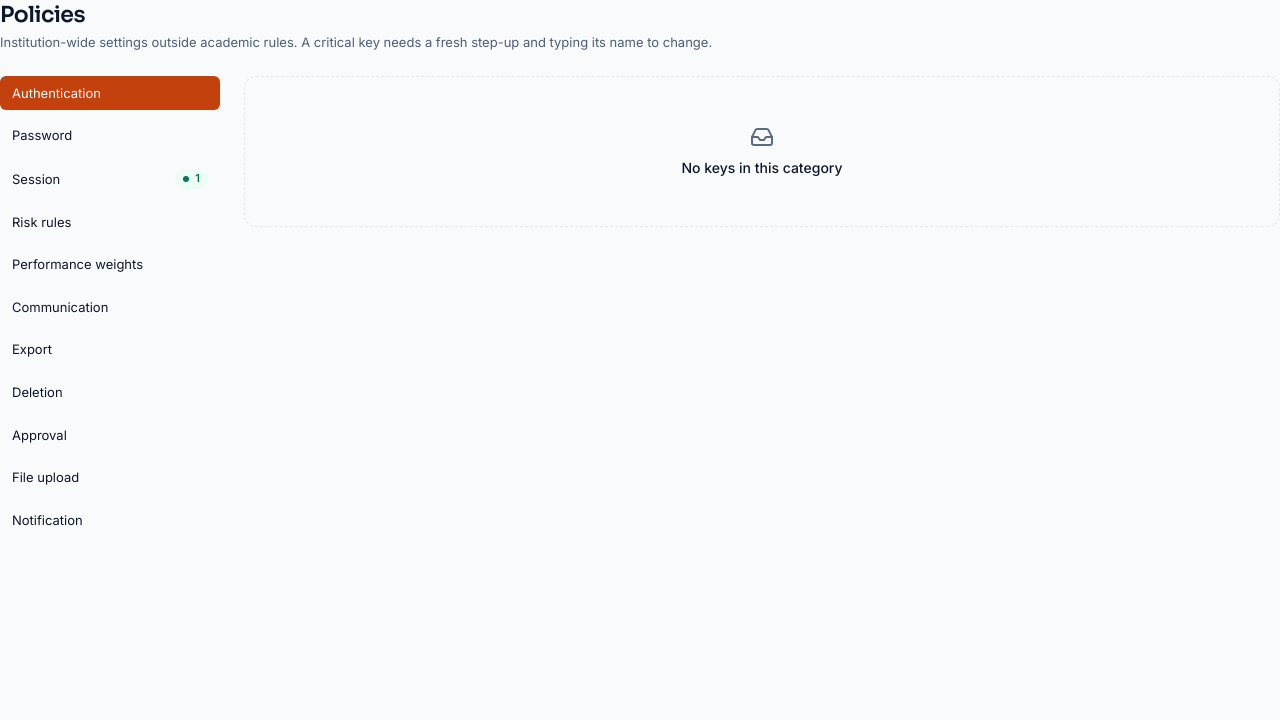
PoliciesScreen › resets a custom value to its default
Click the button "Session 1": (110, 179) [0, 161, 220, 197]
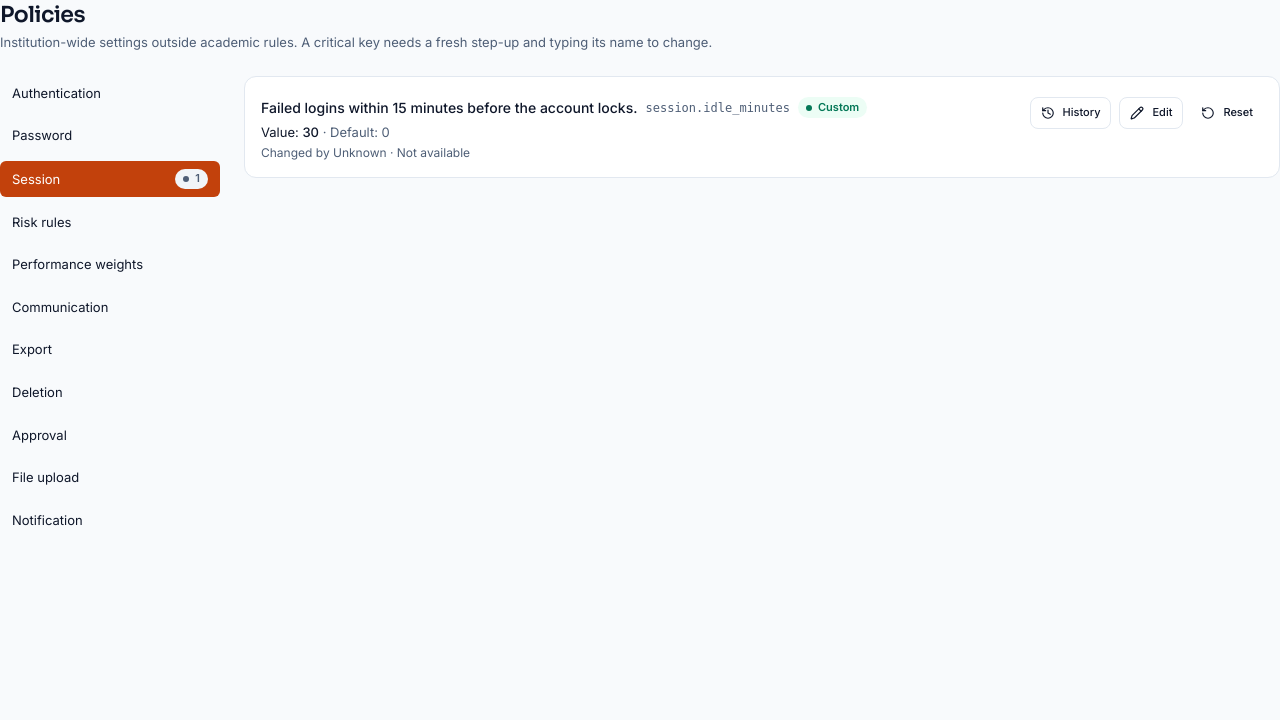
Click the button "Reset": (1227, 113) [1191, 97, 1263, 129]
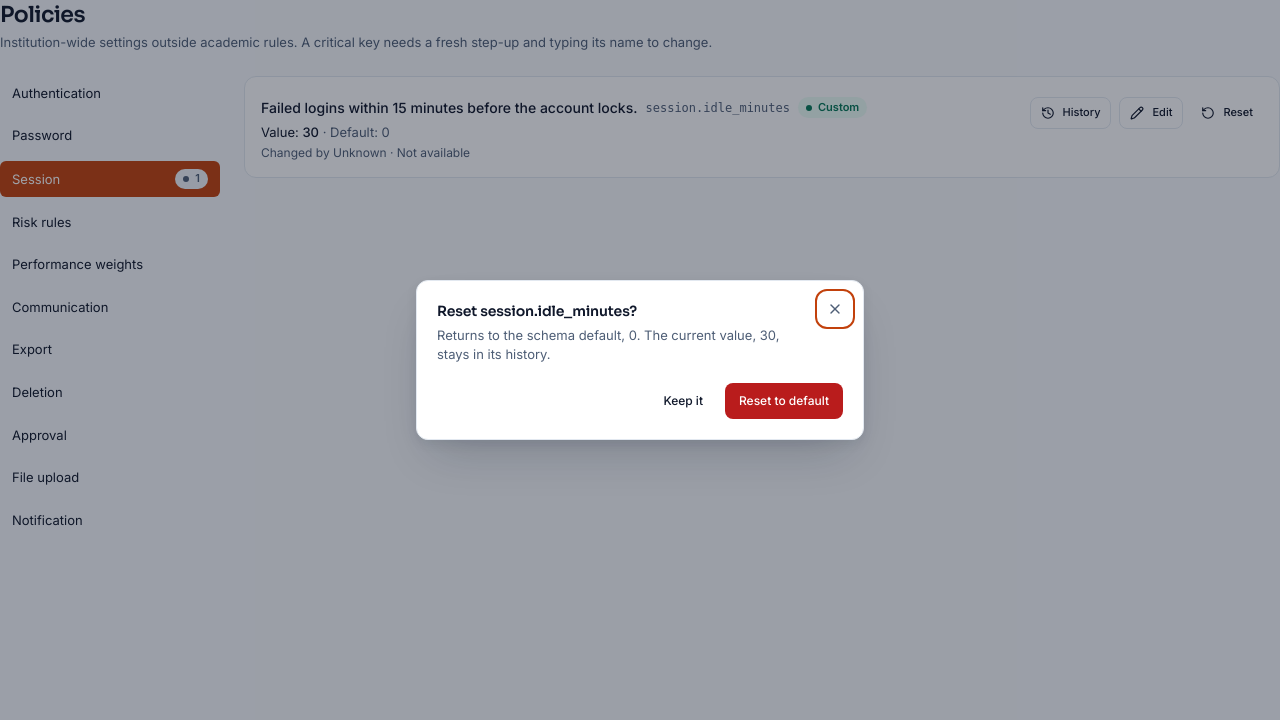
Expected: the heading "Reset session.idle_minutes?" is shown, [437, 302, 637, 320]
Click the button "Reset to default": (784, 401) [725, 383, 843, 419]
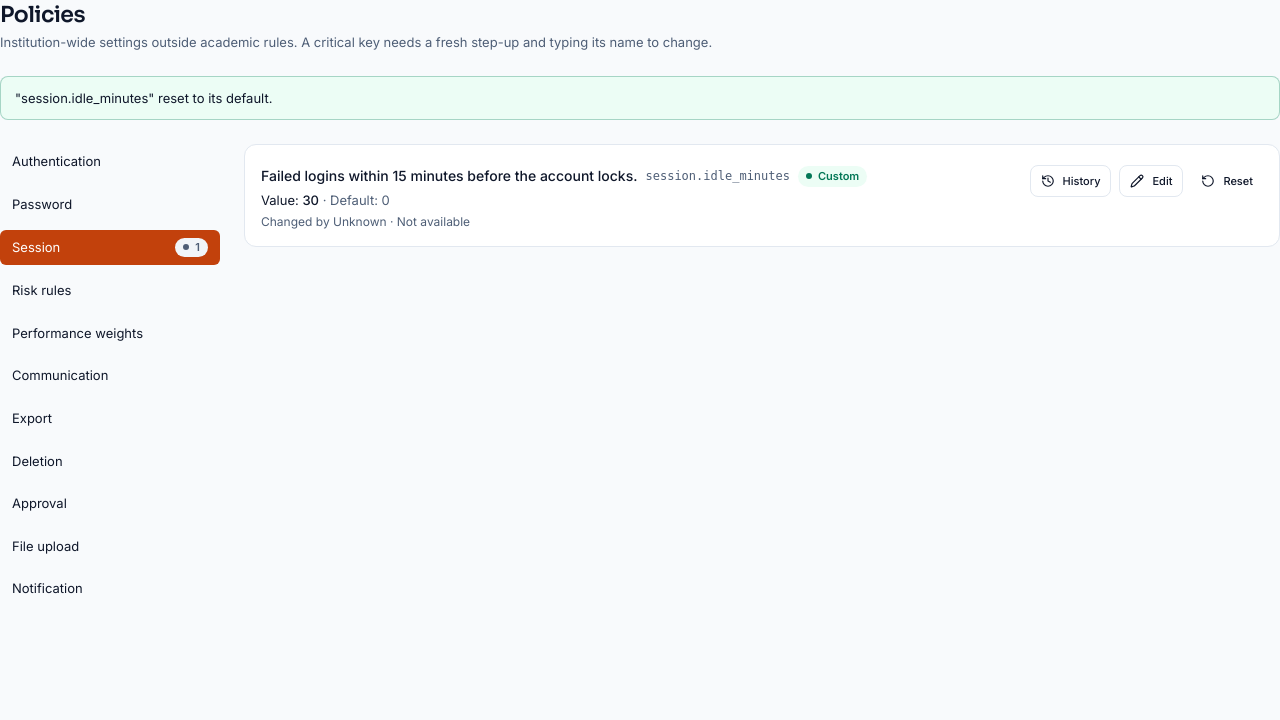
Expected: the text "\"session.idle_minutes\" reset to its default." is shown, [0, 76, 1279, 120]
